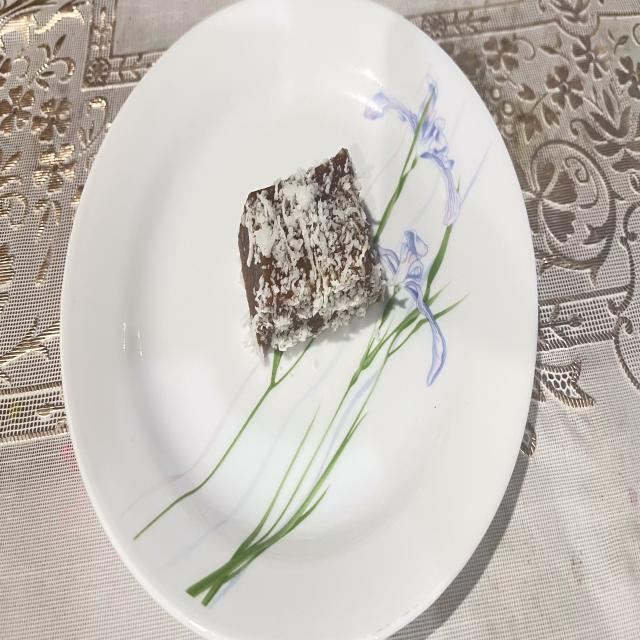kaswi: (239, 149, 384, 351)
